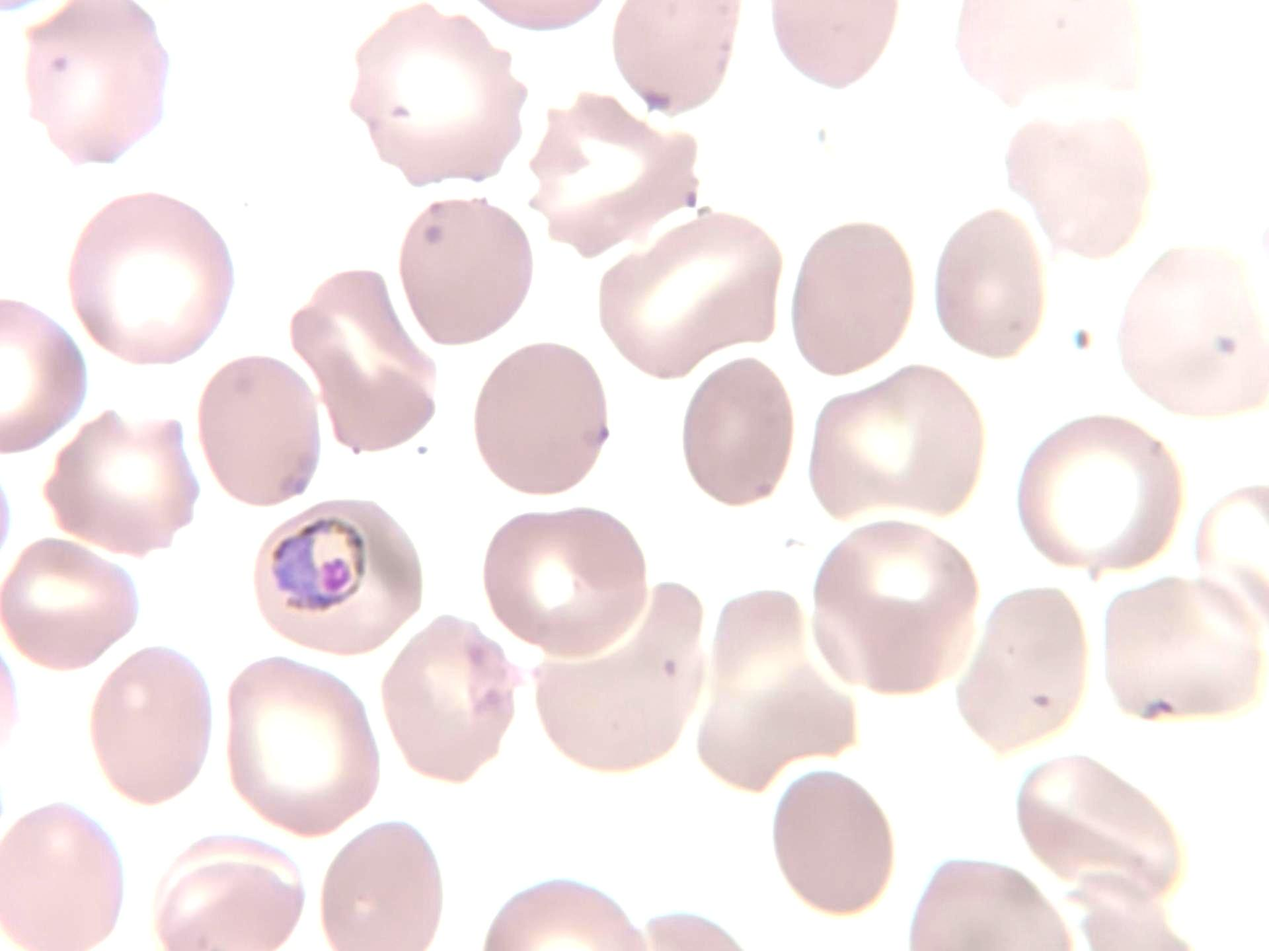Infected: (251, 505, 423, 647)
Uninfected: (692, 596, 869, 796), (1016, 752, 1185, 951), (293, 265, 455, 470), (520, 589, 702, 765), (352, 0, 524, 177), (811, 523, 981, 702), (597, 217, 781, 374), (1018, 419, 1187, 578), (520, 91, 686, 251), (822, 362, 962, 548), (66, 199, 223, 364), (1108, 572, 1263, 730), (480, 512, 640, 664), (231, 657, 373, 828), (18, 5, 170, 164), (366, 622, 517, 780), (1121, 252, 1269, 408), (88, 644, 222, 806), (471, 340, 608, 496), (46, 413, 188, 558), (961, 587, 1084, 744), (936, 214, 1055, 367), (152, 829, 304, 948), (0, 538, 128, 675), (771, 763, 887, 910), (401, 199, 527, 333), (681, 362, 803, 500), (322, 816, 442, 951), (793, 224, 903, 371), (0, 809, 107, 951), (207, 358, 314, 499)
